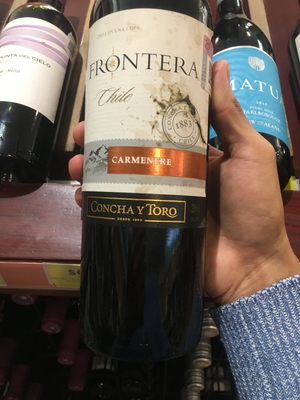frontera carmenere: (81, 5, 224, 331)
